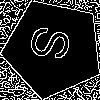S: (28, 23, 81, 65)
